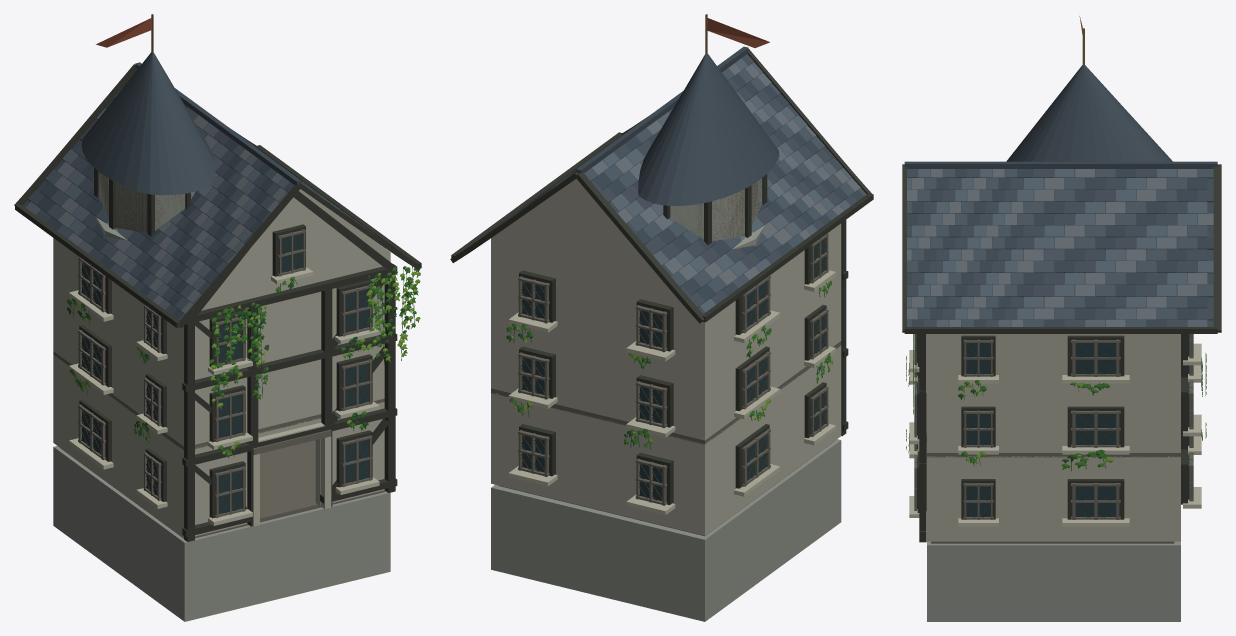
File: guildhall.glb
3 views of the same model, side by side, from view 1: azimuth 30°, elevation 25°; view 2: azimuth 150°, elevation 25°; view 3: azimuth 270°, elevation 25° (orthographic). The views are drawn at different scales.
Visible parts, largest first — view 1: guildhall; view 2: guildhall; view 3: guildhall.
Part boxes in pixels (<box>): guildhall: <box>14,14,421,621</box>; guildhall: <box>450,14,873,621</box>; guildhall: <box>902,16,1221,621</box>.
Size of the model in its own units: 9.43 by 19.4 by 10.81.
